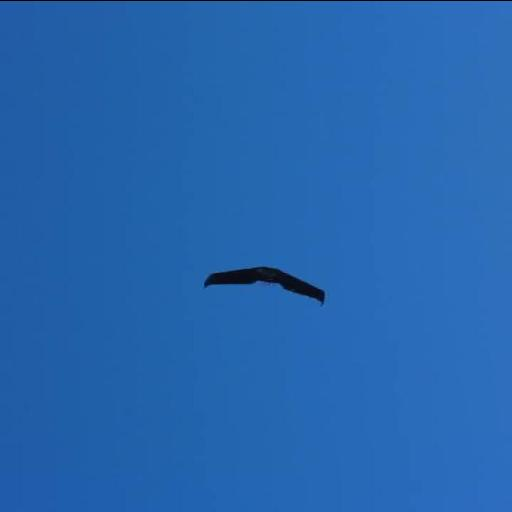uav: (200, 261, 334, 307)
